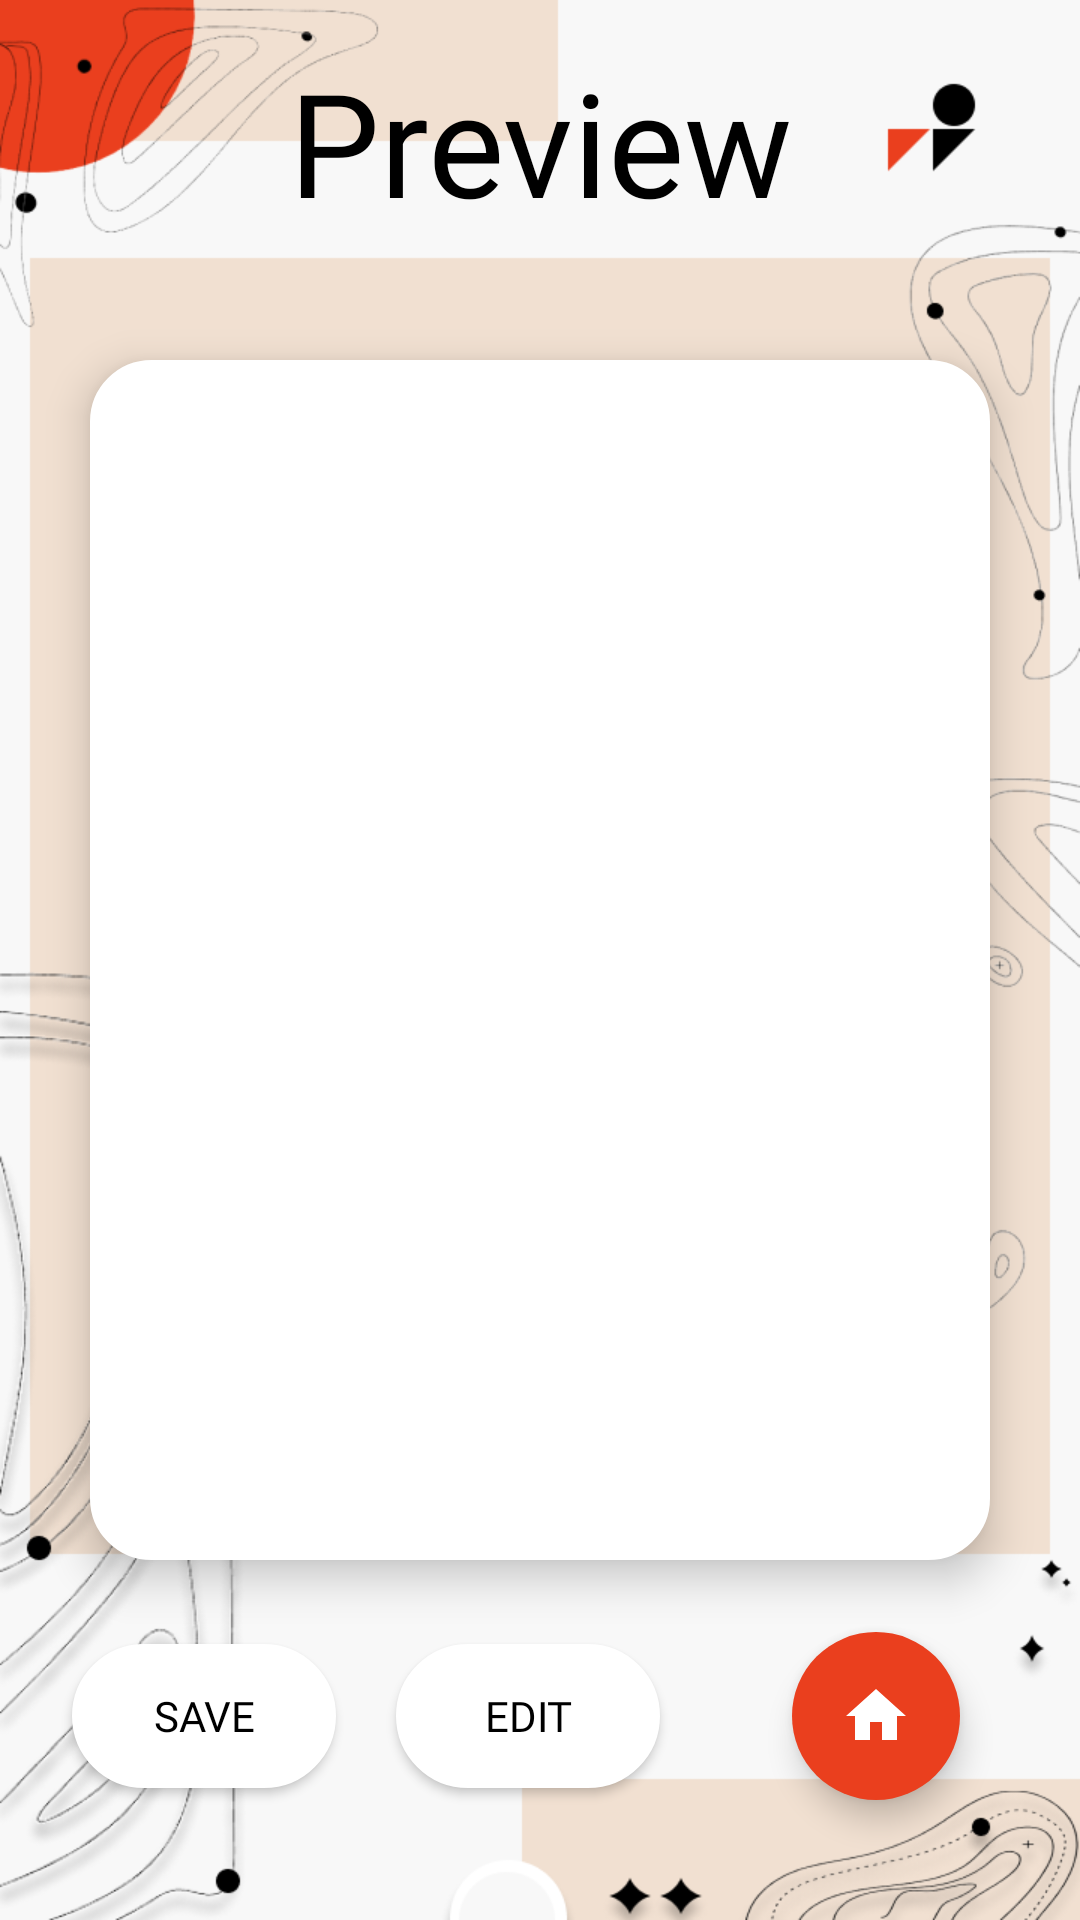

Screen size 1080 x 1920. Icon name, then its center in pixels as point (x, y):
home: point (876, 1716)
